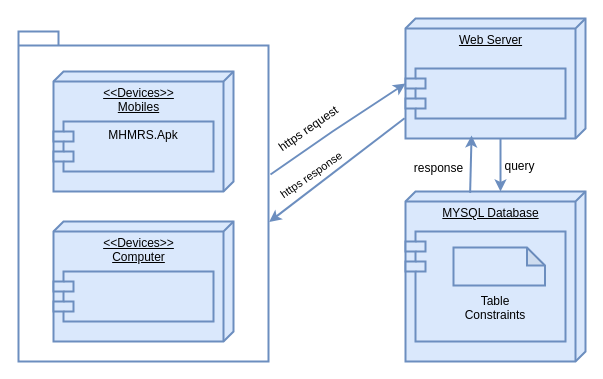
This 603x379 diagram has some shape labels left out. The centre of each missing label's shape, as x and y in pixels:
MHMRS: point (485, 93)
Tables: point (499, 266)
Web Browser: point (133, 296)
